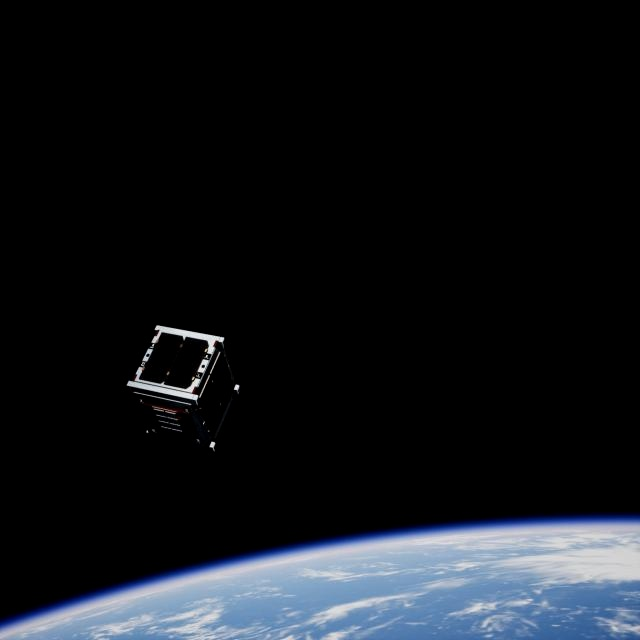medium_debris: (127, 327, 251, 468)
